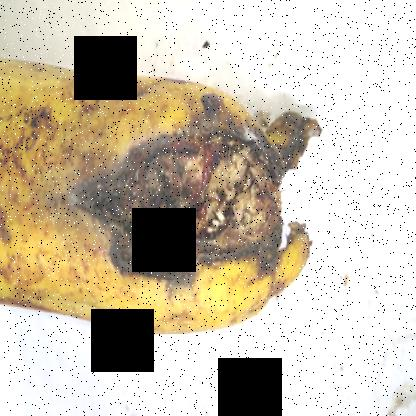ripe: (0, 24, 92, 348)
rotten: (72, 93, 307, 309)
